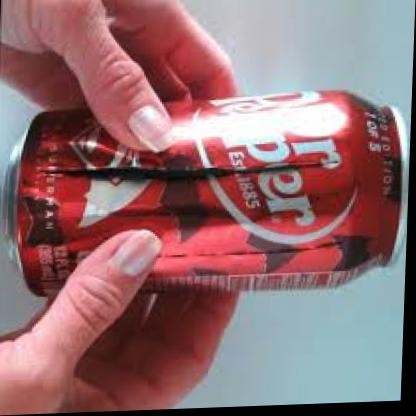trash: (17, 91, 401, 296)
